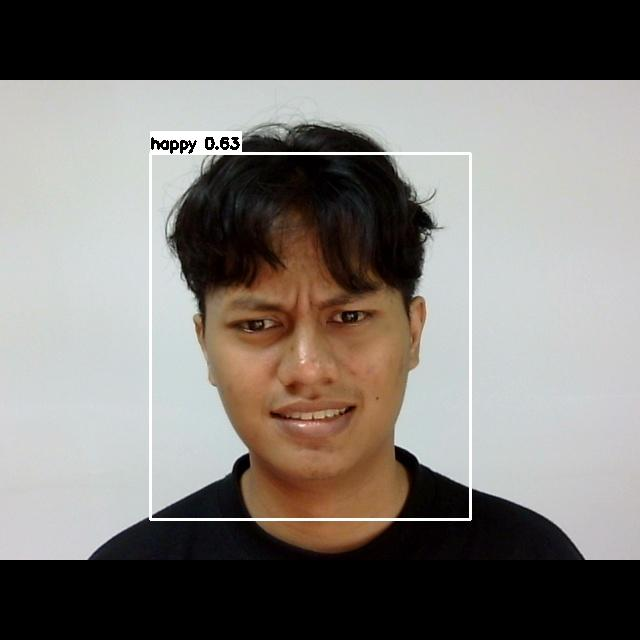Disgust: (211, 276, 420, 463)
